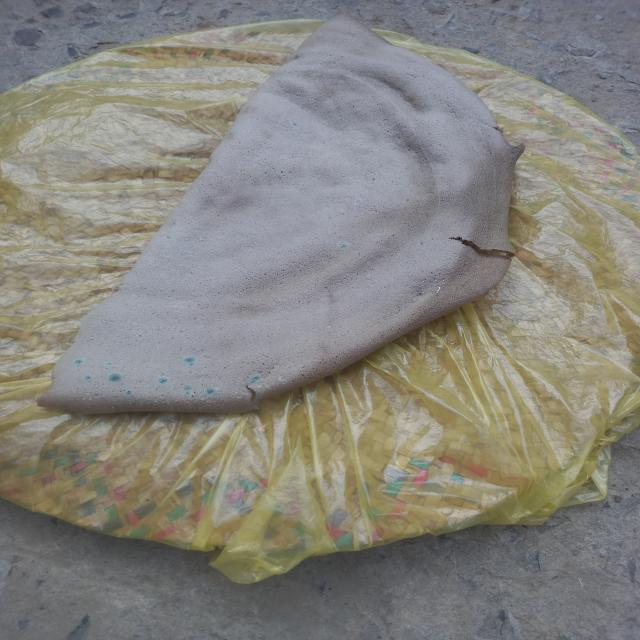injera_mold: (159, 398, 179, 411), (183, 394, 206, 405), (256, 384, 273, 397), (248, 374, 264, 384), (108, 372, 123, 382), (278, 375, 290, 385), (81, 392, 93, 401), (338, 241, 348, 249), (157, 378, 170, 384), (74, 358, 85, 365), (183, 357, 197, 362), (183, 384, 193, 391), (206, 388, 217, 394), (125, 390, 133, 398), (436, 286, 444, 293), (84, 375, 92, 380), (292, 122, 299, 127), (106, 362, 112, 366), (442, 278, 447, 282), (189, 363, 194, 366), (202, 370, 208, 372), (435, 279, 438, 282), (422, 281, 425, 283), (422, 292, 425, 294), (354, 37, 356, 39), (351, 31, 353, 33), (352, 40, 354, 42), (360, 41, 362, 43), (344, 40, 346, 41), (348, 41, 350, 42), (362, 39, 364, 40)
